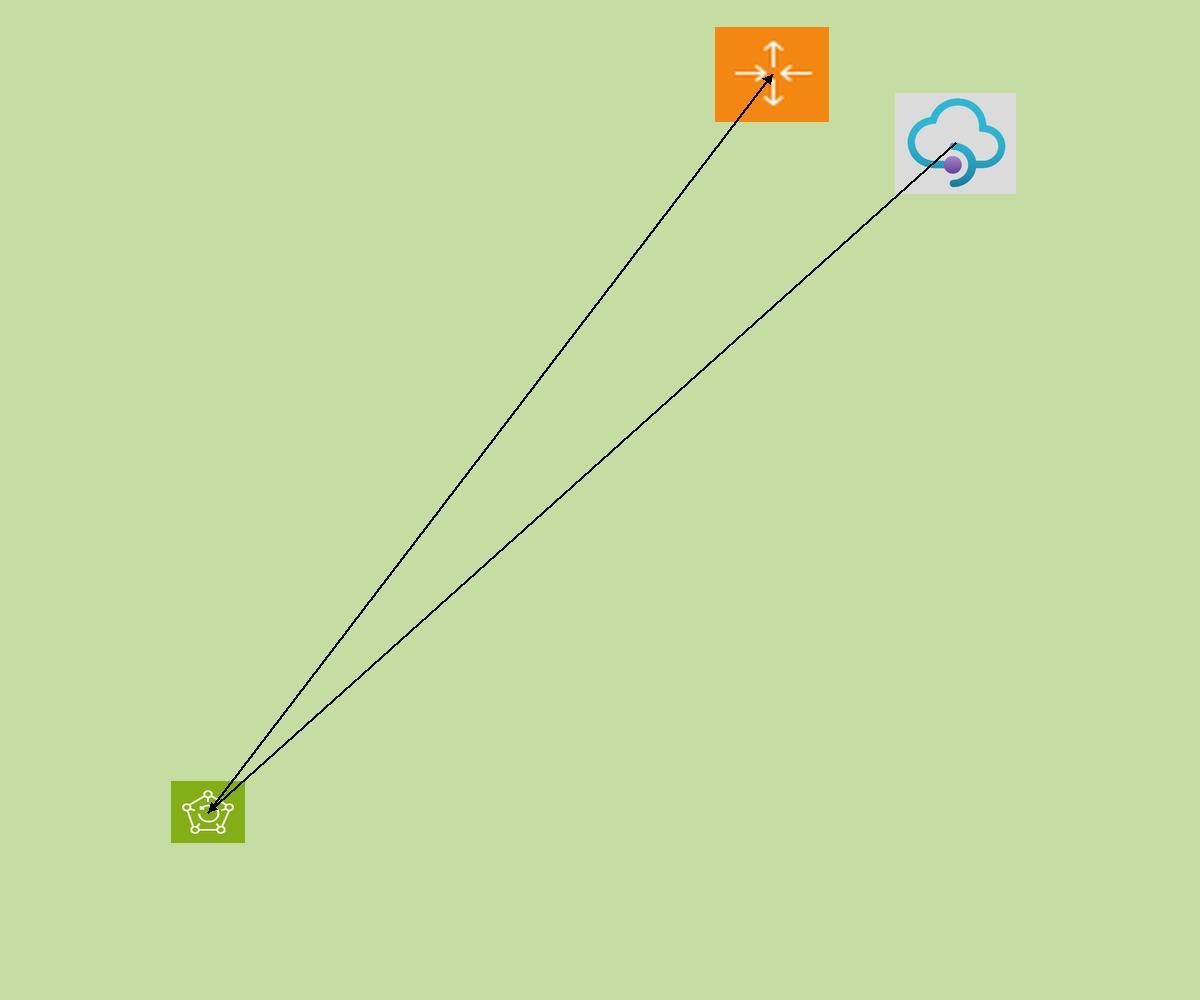AWS-Backup: (171, 781, 245, 843)
AWS-Scaling-group: (715, 27, 829, 122)
Azure_api_gateway: (895, 93, 1016, 194)
